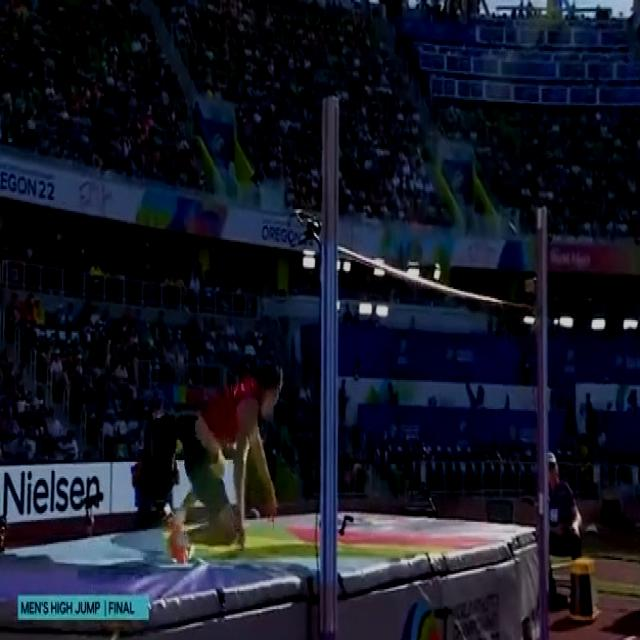land: (162, 357, 284, 567)
